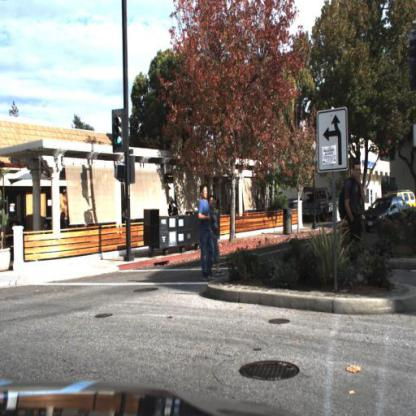pedestrian: (340, 160, 367, 264), (197, 187, 213, 277)
trafficLight-Green: (112, 109, 127, 151)
